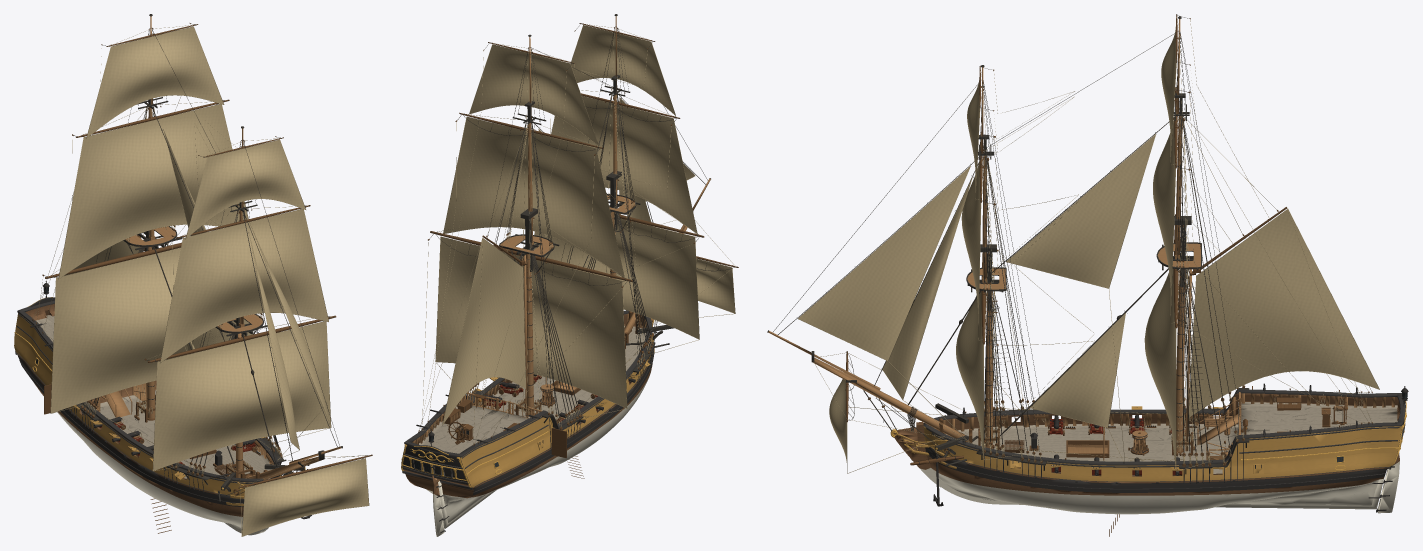
File: ship_lod1.glb
3 views of the same model, side by side, from view 1: azimuth 30°, elevation 25°; view 2: azimuth 150°, elevation 25°; view 3: azimuth 270°, elevation 25° (orthographic). The views are drawn at different scales.
Parts seen in each view (by area): view 1: lod1_fore_course_set, lod1_main_topsail_set, lod1_main_course_set, lod1_fore_topsail_set, lod1_hull, lod1_main_topgallant_set, lod1_spritsail_set, lod1_fore_topgallant_set, lod1_hull_rail, lod1_fore_topmast_staysail_set, lod1_rigging_running_sailing, lod1_jib_set (+8 smaller); view 2: lod1_main_topsail_set, lod1_main_course_set, lod1_hull, lod1_fore_topsail_set, lod1_fore_course_set, lod1_gaff_sail_set, lod1_main_topgallant_set, lod1_fore_topgallant_set, lod1_rigging_running_sailing, lod1_spritsail_set, lod1_hull_rail, lod1_spars_timber_001 (+10 smaller); view 3: lod1_hull, lod1_gaff_sail_set, lod1_jib_set, lod1_main_topmast_staysail_set, lod1_main_staysail_set, lod1_rigging_running_sailing, lod1_hull_rail, lod1_fore_topmast_staysail_set, lod1_main_course_set, lod1_fore_course_set, lod1_main_topsail_set, lod1_bowsprit (+8 smaller).
Part boxes in pixels (x1=…): lod1_fore_course_set: x1=153, y1=321, x2=330, y2=470; lod1_main_topsail_set: x1=59, y1=104, x2=248, y2=278; lod1_main_course_set: x1=51, y1=248, x2=252, y2=413; lod1_fore_topsail_set: x1=160, y1=209, x2=328, y2=362; lod1_hull: x1=14, y1=303, x2=279, y2=529; lod1_main_topgallant_set: x1=87, y1=27, x2=223, y2=137; lod1_spritsail_set: x1=242, y1=458, x2=368, y2=536; lod1_fore_topgallant_set: x1=186, y1=140, x2=305, y2=238; lod1_hull_rail: x1=17, y1=300, x2=280, y2=482; lod1_fore_topmast_staysail_set: x1=251, y1=243, x2=299, y2=449; lod1_rigging_running_sailing: x1=35, y1=24, x2=313, y2=475; lod1_jib_set: x1=254, y1=233, x2=329, y2=422; lod1_main_topsail_set: x1=443, y1=117, x2=624, y2=277; lod1_main_course_set: x1=435, y1=237, x2=627, y2=408; lod1_hull: x1=403, y1=314, x2=654, y2=522; lod1_fore_topsail_set: x1=551, y1=96, x2=697, y2=233; lod1_fore_course_set: x1=534, y1=219, x2=699, y2=338; lod1_gaff_sail_set: x1=442, y1=238, x2=525, y2=424; lod1_main_topgallant_set: x1=469, y1=44, x2=598, y2=145; lod1_fore_topgallant_set: x1=570, y1=25, x2=675, y2=115; lod1_rigging_running_sailing: x1=420, y1=32, x2=689, y2=442; lod1_spritsail_set: x1=696, y1=259, x2=735, y2=313; lod1_hull_rail: x1=404, y1=310, x2=652, y2=457; lod1_spars_timber_001: x1=526, y1=254, x2=533, y2=414; lod1_hull: x1=923, y1=393, x2=1404, y2=514; lod1_gaff_sail_set: x1=1189, y1=209, x2=1379, y2=417; lod1_jib_set: x1=798, y1=167, x2=969, y2=360; lod1_main_topmast_staysail_set: x1=1006, y1=135, x2=1155, y2=288; lod1_main_staysail_set: x1=1030, y1=314, x2=1125, y2=427; lod1_rigging_running_sailing: x1=936, y1=20, x2=1369, y2=465; lod1_hull_rail: x1=926, y1=389, x2=1405, y2=465; lod1_fore_topmast_staysail_set: x1=882, y1=180, x2=971, y2=399; lod1_main_course_set: x1=1144, y1=268, x2=1175, y2=467; lod1_fore_course_set: x1=956, y1=290, x2=983, y2=456; lod1_main_topsail_set: x1=1153, y1=116, x2=1175, y2=313; lod1_bowsprit: x1=767, y1=330, x2=972, y2=443.
Bounding box in the file's own units: 16.71 × 36.43 × 40.24.
Materials: 31 (31 with a texture image).
